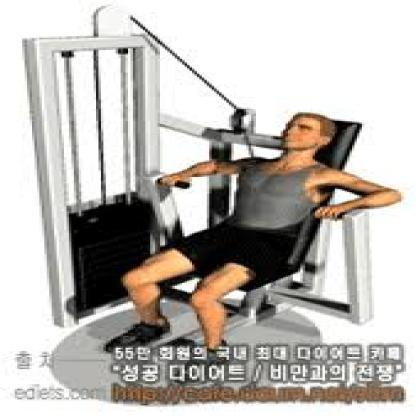Chest Press machine: (18, 3, 409, 367)
